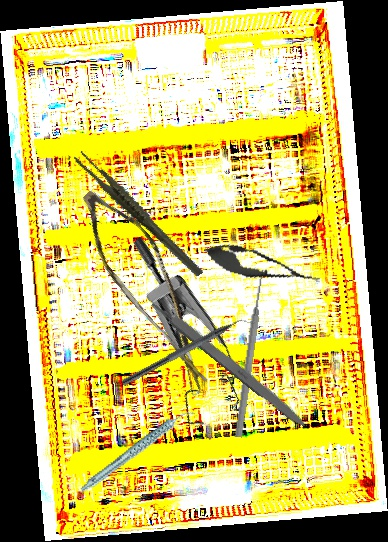Chopper: (120, 309, 257, 396)
Handpiece: (68, 408, 207, 494)
Micro Scissor: (51, 181, 252, 393), (200, 236, 324, 296)
Pusher: (233, 269, 268, 438)
Scalpel Handle: (149, 296, 312, 432)
Speculum: (72, 235, 278, 443)
Tissue Forceps: (72, 132, 205, 297)
